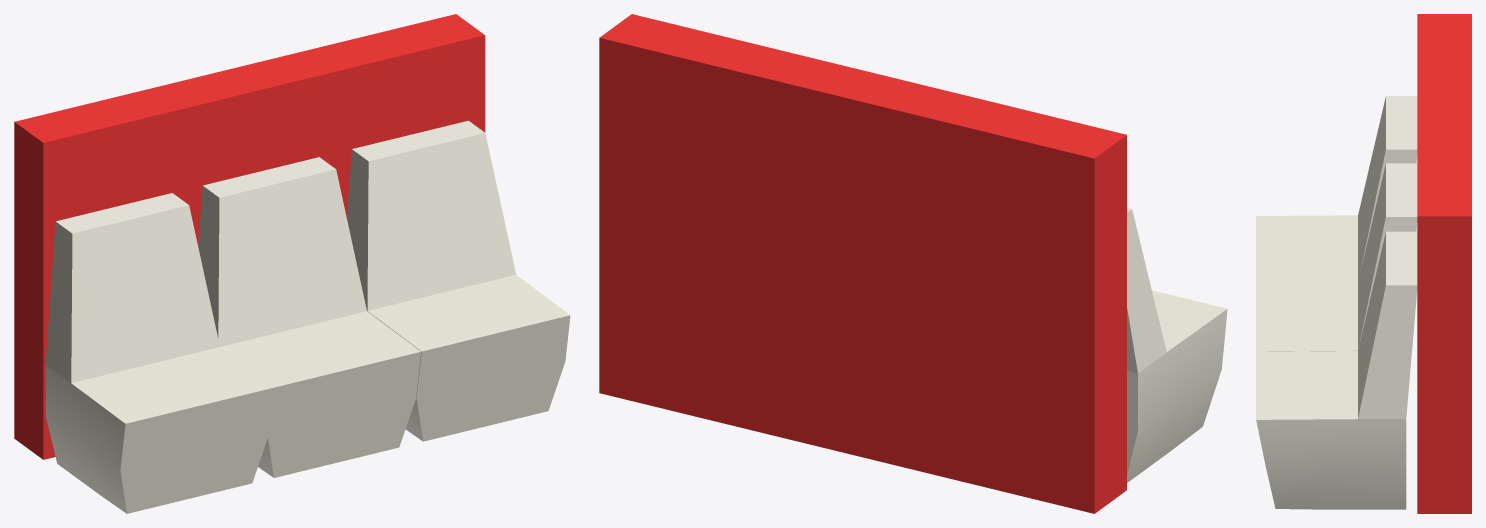
File: Benc_One_Side.fbx
The picture shows the model from 3 angles, left to right: view 1: azimuth 30°, elevation 25°; view 2: azimuth 150°, elevation 25°; view 3: azimuth 270°, elevation 25°; orthographic projection. The views are drawn at different scales.
Parts seen in each view (by area): view 1: Seats_bench_OneSide; view 2: Seats_bench_OneSide; view 3: Seats_bench_OneSide.
Part boxes in pixels (bbox=[...]): Seats_bench_OneSide: bbox=[14, 14, 570, 513]; Seats_bench_OneSide: bbox=[599, 14, 1227, 513]; Seats_bench_OneSide: bbox=[1256, 14, 1471, 513].
Bounding box in the file's own units: 73.99 × 50.54 × 33.04.
